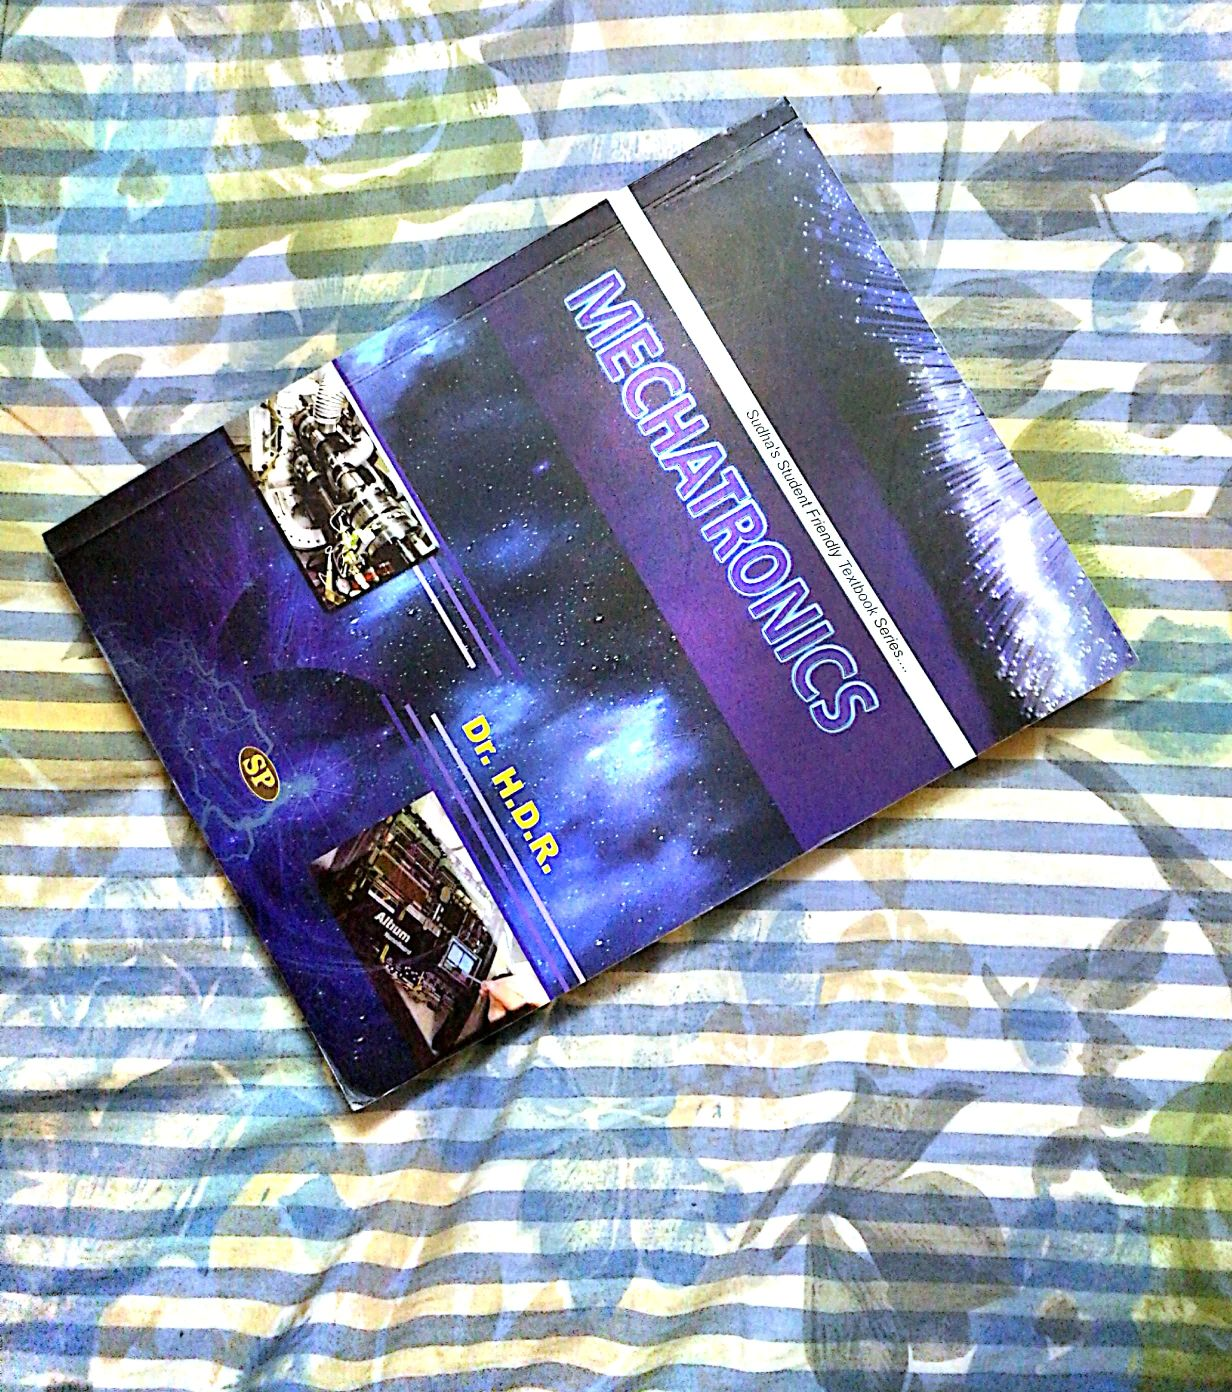mechatronics: (108, 152, 1207, 1064)
